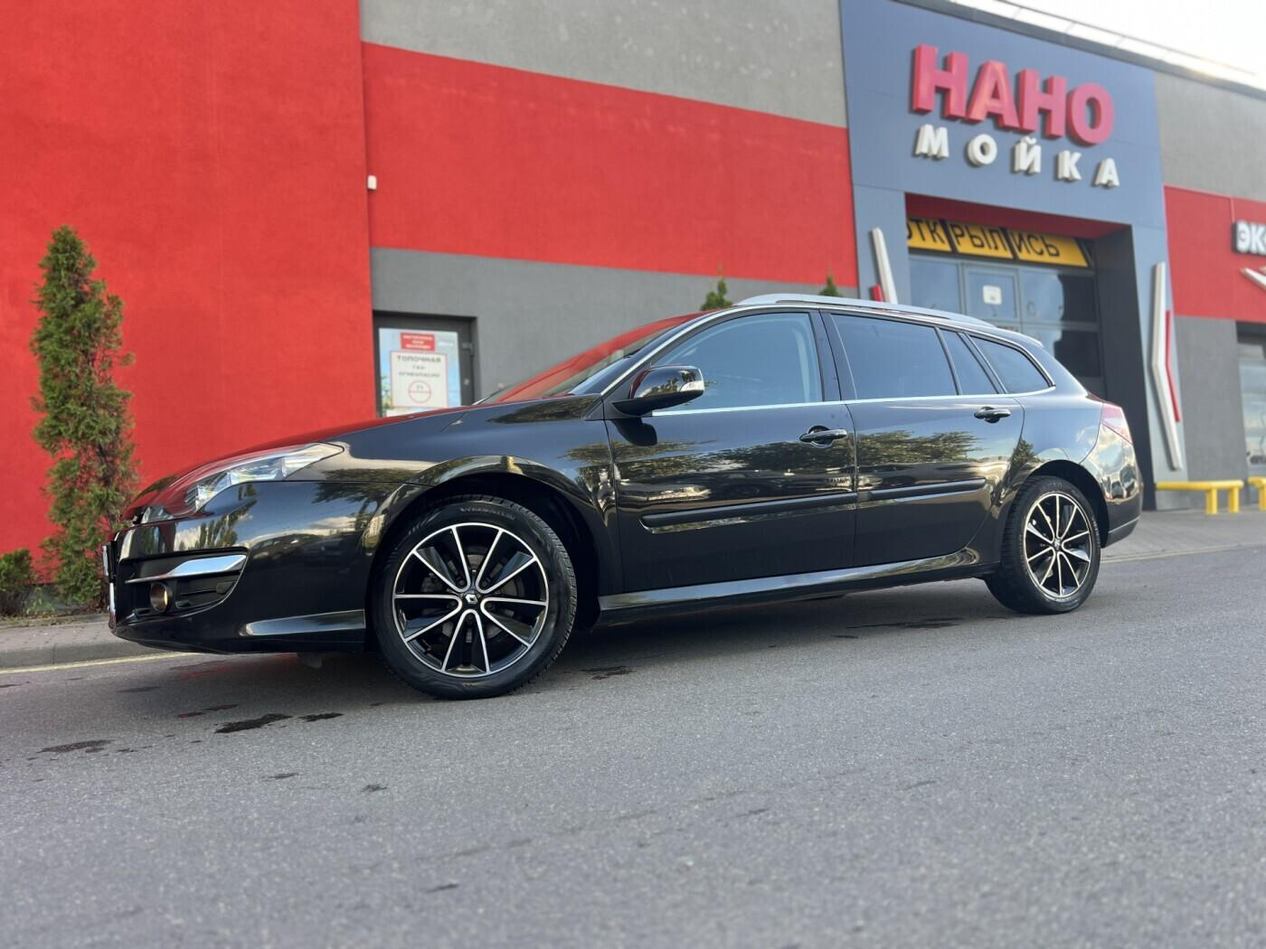Laguna_2010-2015: (93, 284, 1146, 696)
